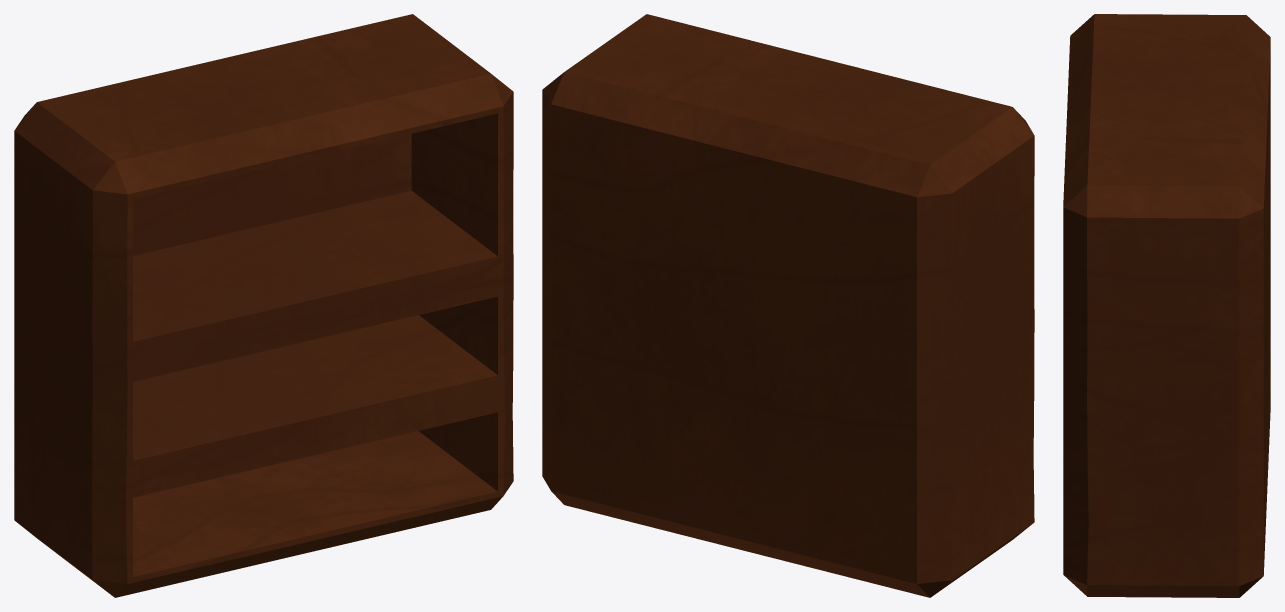
The model's file is pantry.fbx.
The picture shows the model from 3 angles, left to right: view 1: azimuth 30°, elevation 25°; view 2: azimuth 150°, elevation 25°; view 3: azimuth 270°, elevation 25°; orthographic projection. The views are drawn at different scales.
Parts seen in each view (by area): view 1: polySurface595; view 2: polySurface595; view 3: polySurface595.
Part boxes in pixels (left/top/right/bottom): polySurface595: left=14, top=14, right=513, bottom=597; polySurface595: left=542, top=14, right=1034, bottom=597; polySurface595: left=1063, top=14, right=1270, bottom=597.
Bounding box in the file's own units: 1.55 × 1.54 × 0.7031.
1 material, 1 textured.
